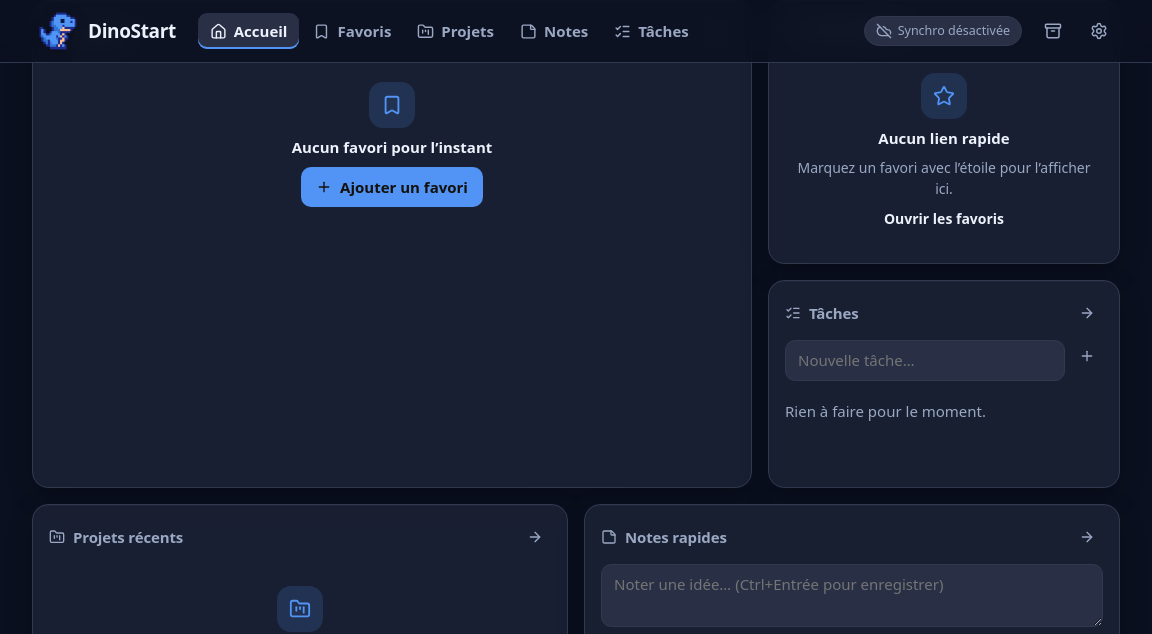
Test: interface DinoStart (rendu réel dans jsdom) › la recherche locale trouve les éléments et propose la recherche Web
(page scrolled)
Type "Envoyer le devis" into the field labelled "Nouvelle tâche".
click(925, 360); type("Envoyer le devis")  # box left=785, top=340, right=1065, bottom=381
Then press Enter
(page scrolled)
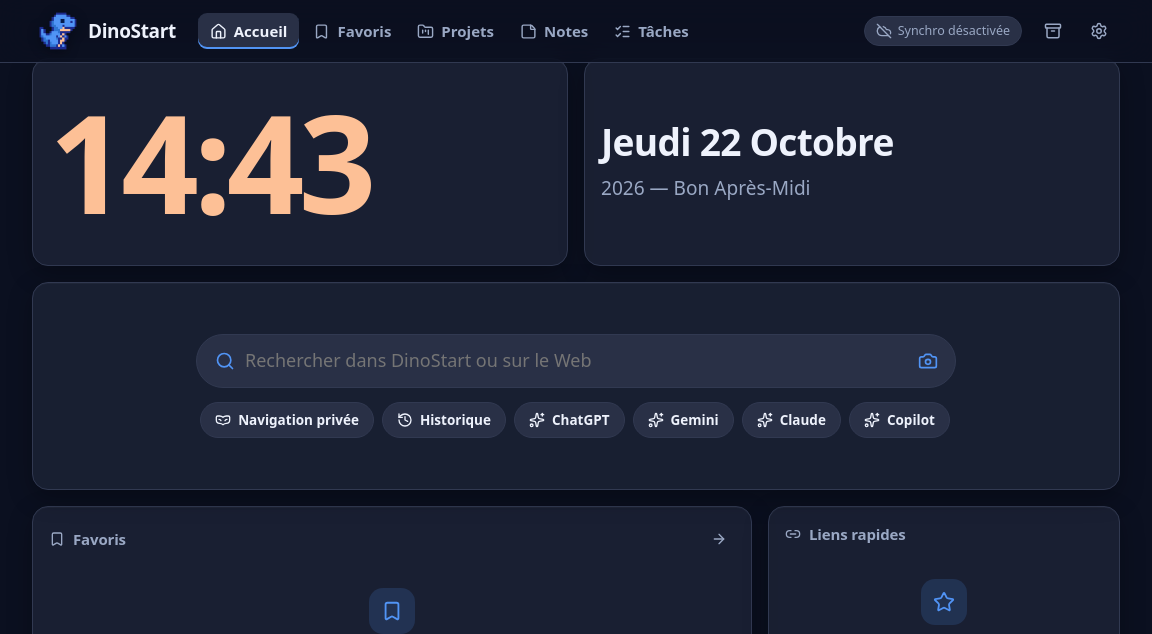
Type "devis" into the dropdown labelled "Rechercher".
click(573, 361); type("devis")  # box left=245, top=337, right=901, bottom=385
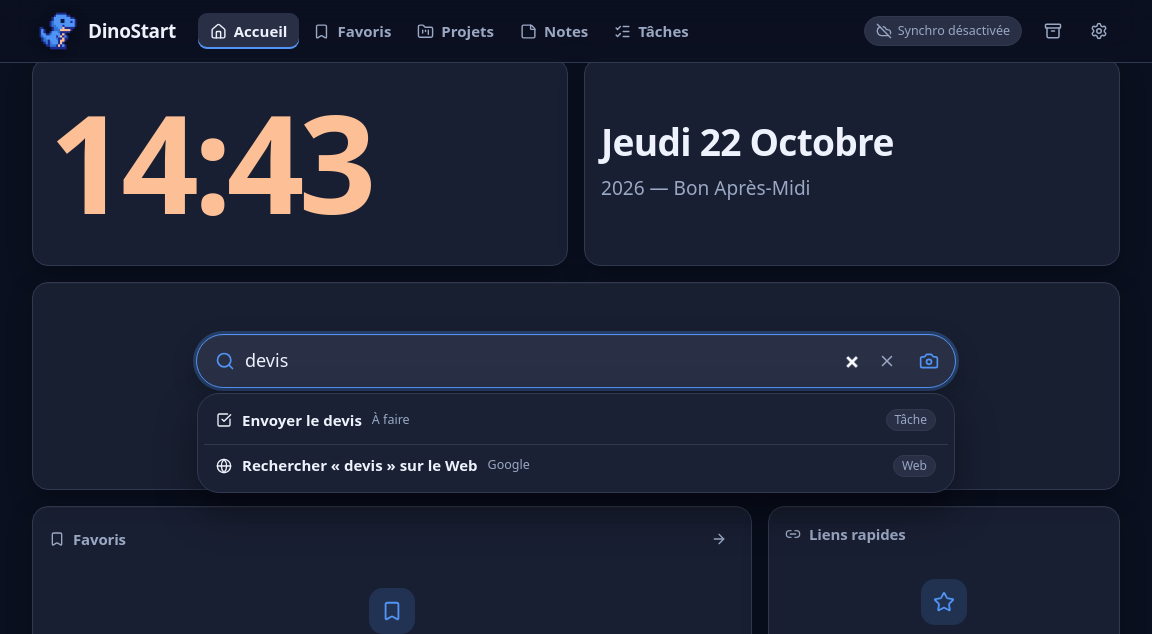
Now the text "Envoyer le devis" is shown, box left=242, top=409, right=362, bottom=431
Now the text "Tâche" is shown, box left=886, top=409, right=936, bottom=431
Now the text "Rechercher « devis » sur le Web" is shown, box left=242, top=454, right=478, bottom=477
